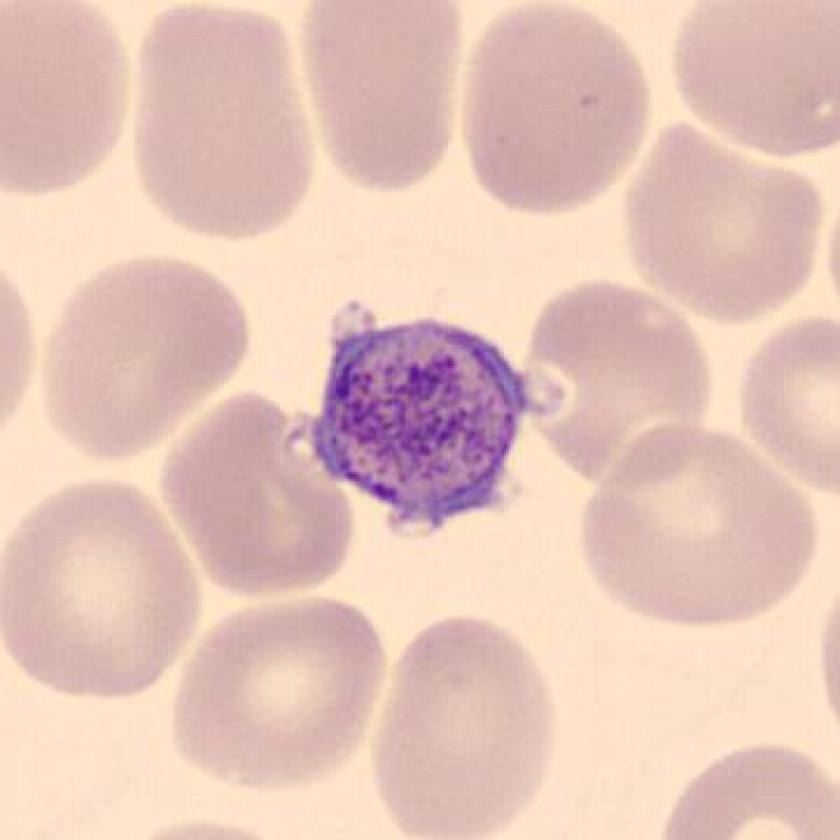platelets: (288, 293, 547, 533)
